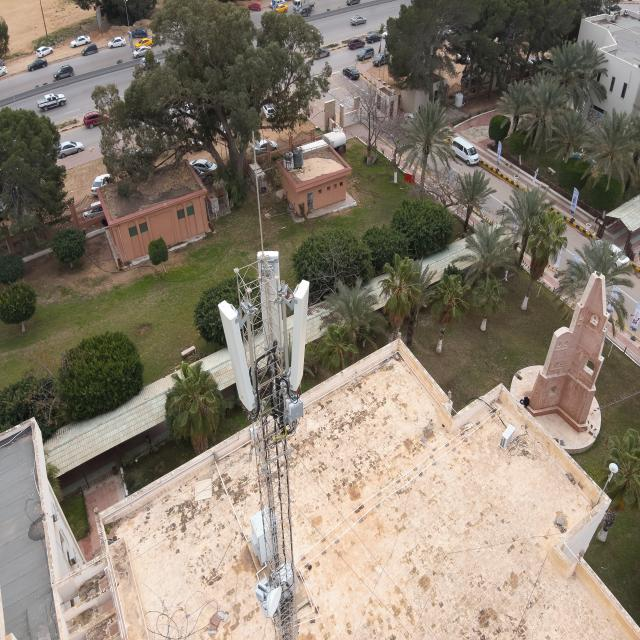antenna: (216, 298, 256, 414), (255, 250, 284, 356), (288, 275, 310, 390)
lighnig-rad: (250, 129, 265, 261)
microware-dish: (255, 583, 283, 618)
power-box: (257, 578, 273, 617)
radio-unit: (274, 374, 305, 422)
